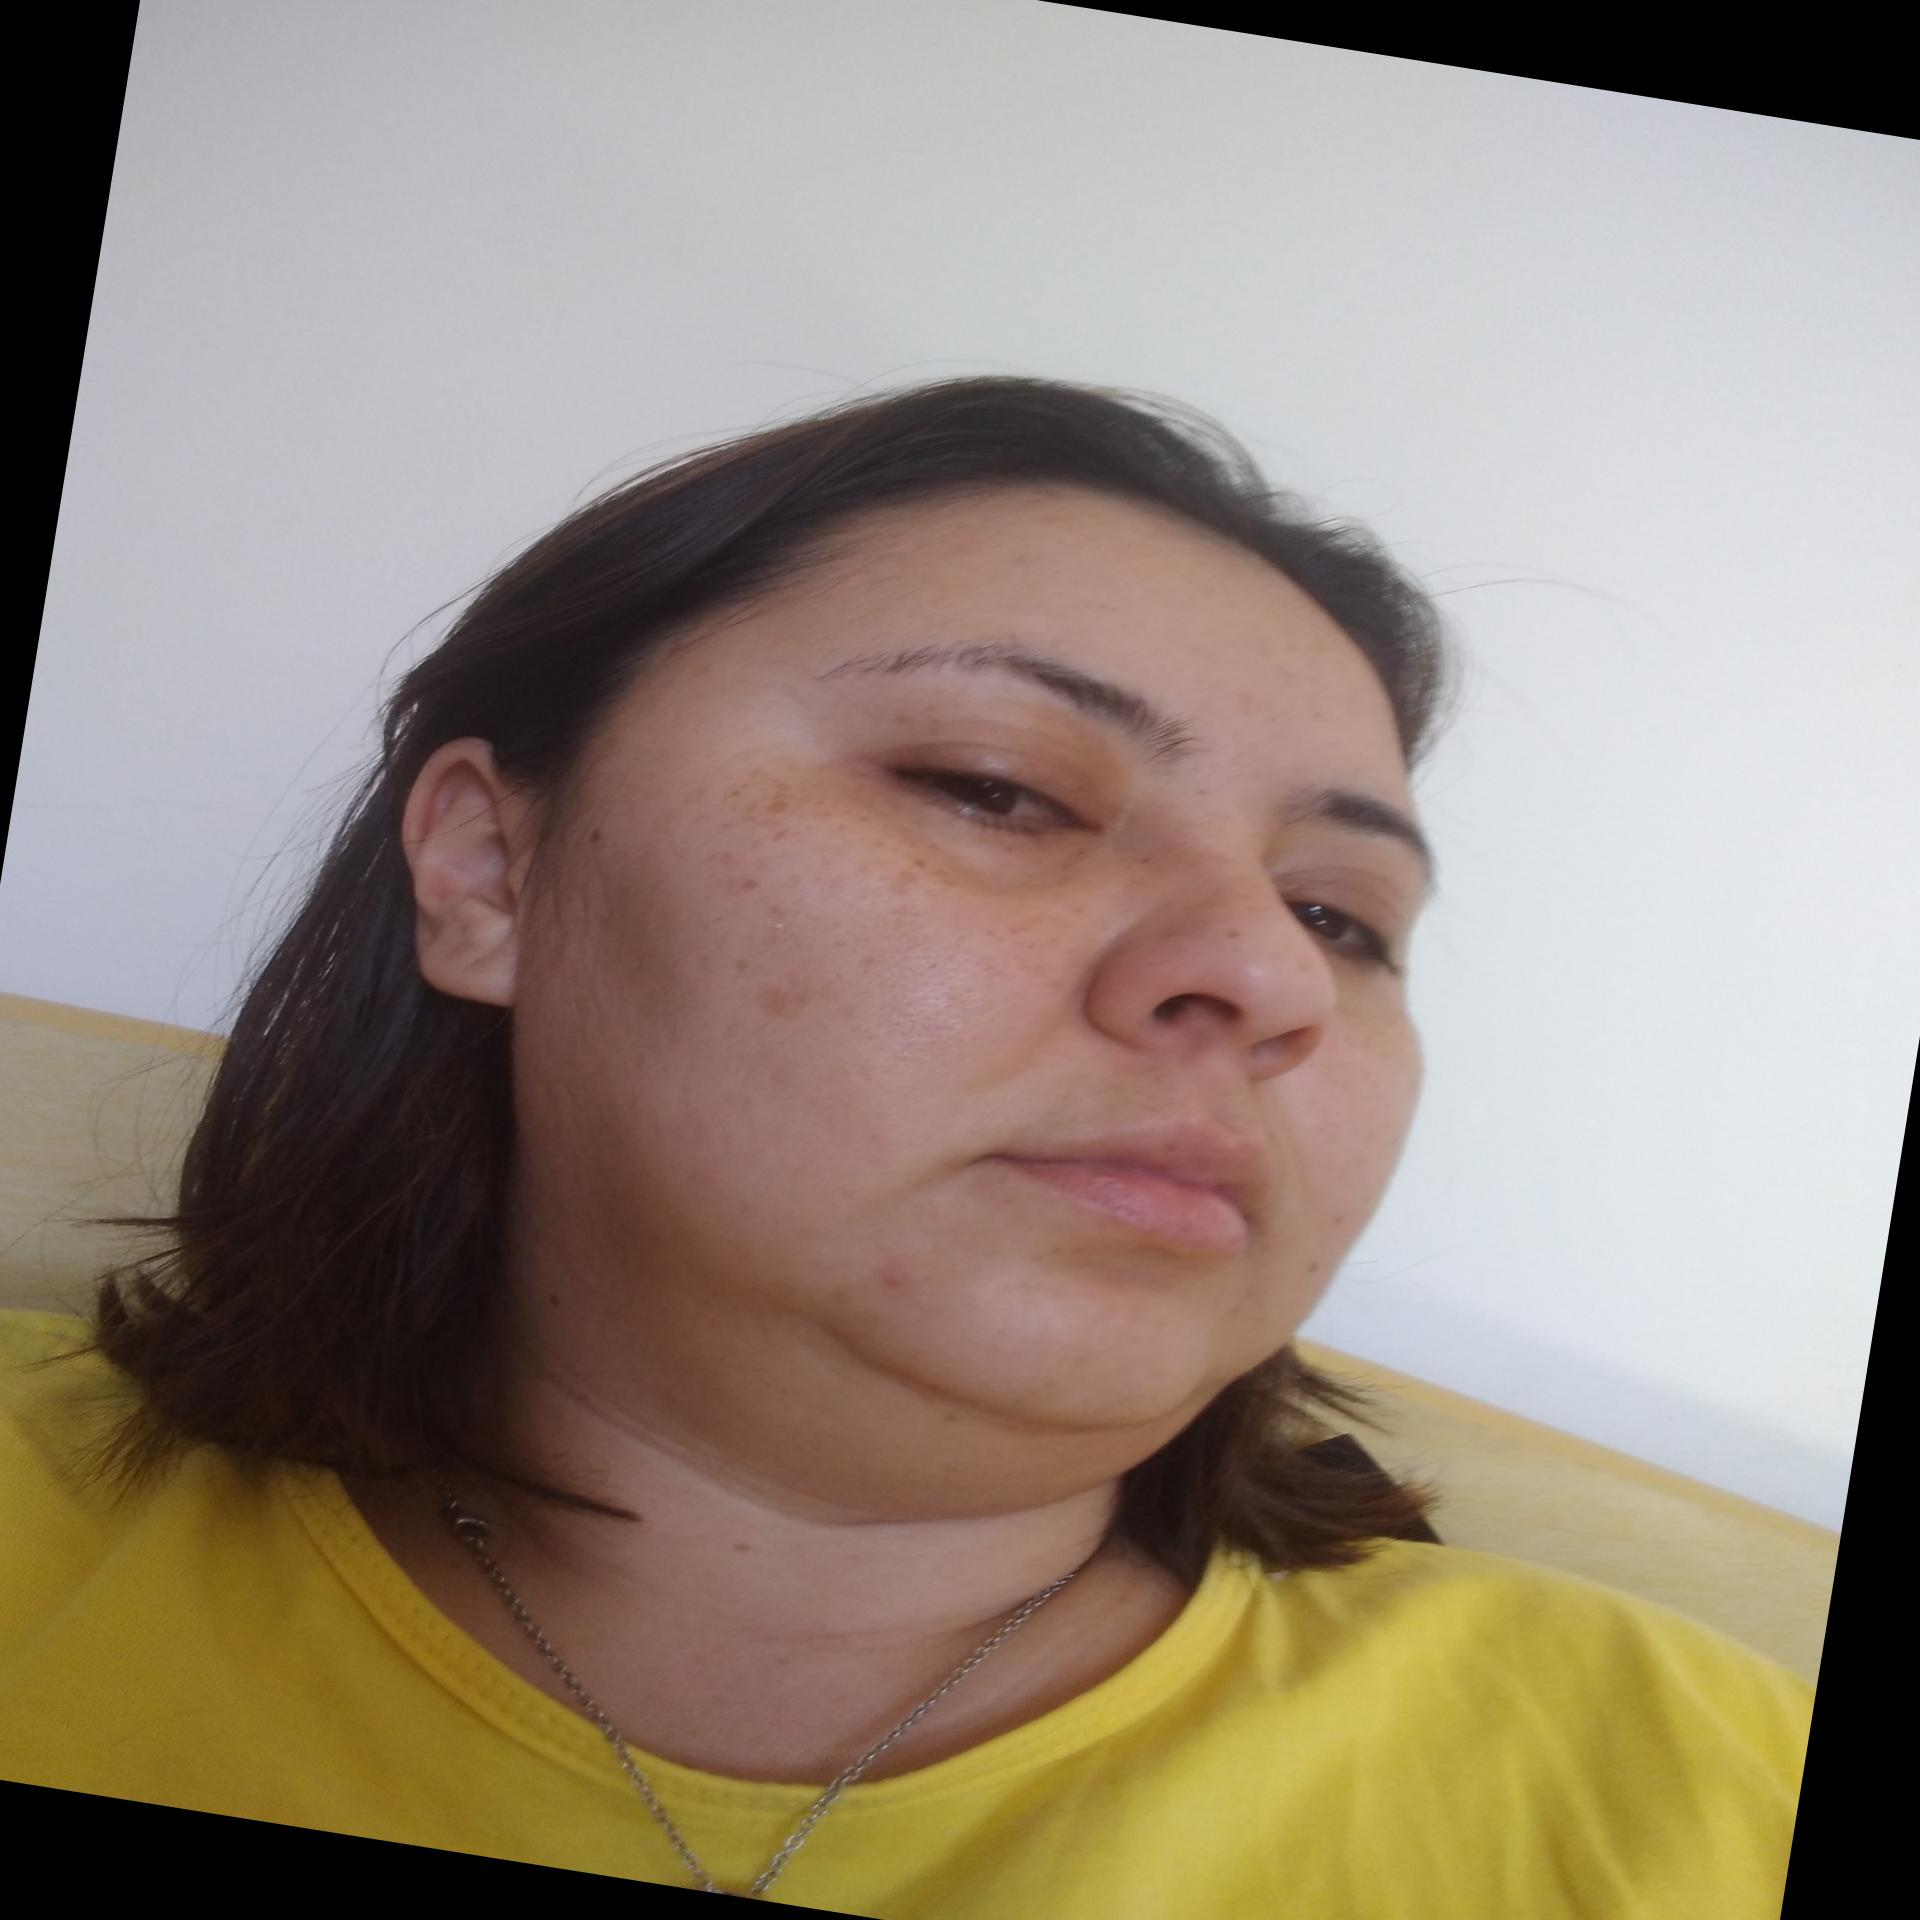Acne: (863, 1254, 921, 1298)
Englarged Pores: (846, 918, 1011, 1069)
